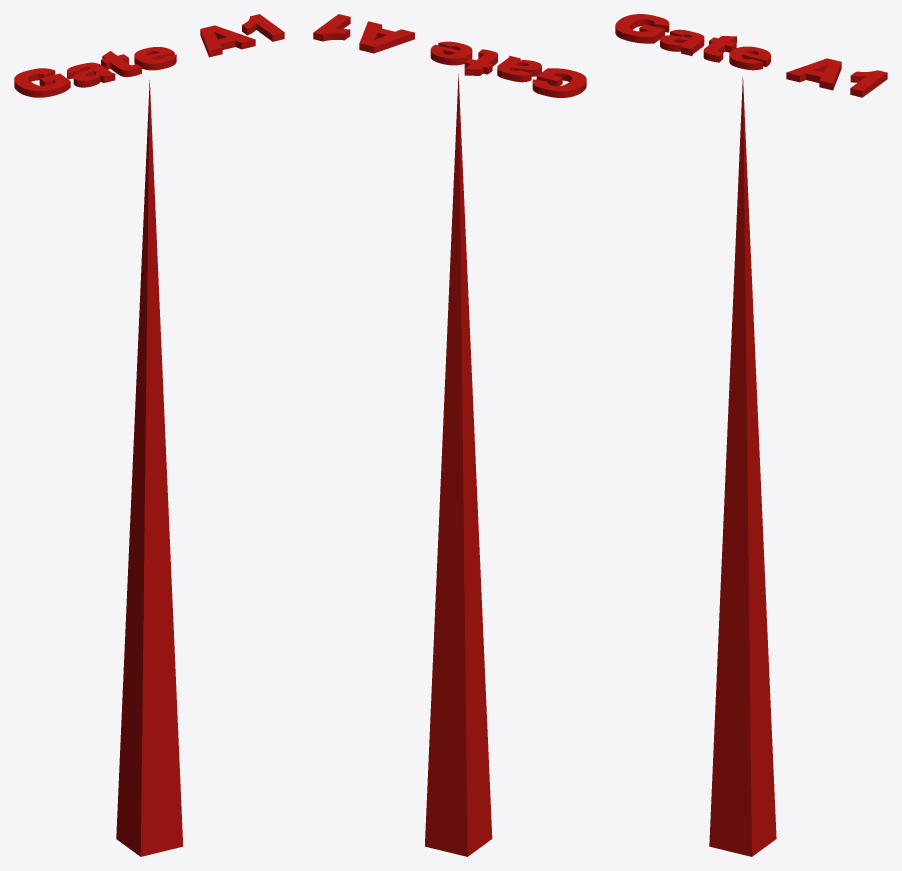
Rendered from Tag_Gate_A1.FBX.
3 views of the same model, side by side, from view 1: azimuth 30°, elevation 25°; view 2: azimuth 150°, elevation 25°; view 3: azimuth 330°, elevation 25° (orthographic).
Parts seen in each view (by area): view 1: Tag_Nail_Gate, Tag_Text_Gate_A1; view 2: Tag_Nail_Gate, Tag_Text_Gate_A1; view 3: Tag_Nail_Gate, Tag_Text_Gate_A1.
Boxes of the visible parts, left/top/right/bottom form: Tag_Nail_Gate: left=116, top=80, right=183, bottom=856; Tag_Text_Gate_A1: left=14, top=14, right=284, bottom=97; Tag_Nail_Gate: left=425, top=73, right=492, bottom=856; Tag_Text_Gate_A1: left=313, top=14, right=586, bottom=97; Tag_Nail_Gate: left=709, top=77, right=776, bottom=856; Tag_Text_Gate_A1: left=615, top=14, right=887, bottom=97.
Size of the model in its own units: 658 by 1944 by 132.
